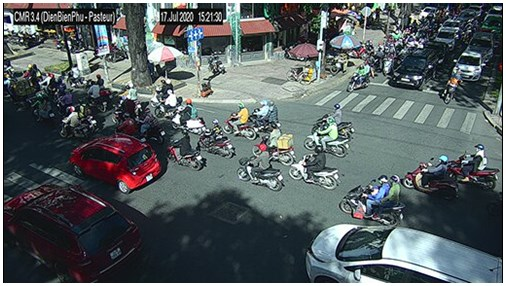xe_hoi: (4, 182, 143, 281), (304, 223, 501, 282), (69, 135, 162, 192), (391, 50, 438, 87), (452, 50, 484, 81), (467, 32, 494, 59), (425, 43, 450, 63), (433, 28, 457, 47), (481, 16, 503, 33), (440, 19, 466, 33)
xe_may: (340, 175, 406, 226), (447, 142, 500, 191), (403, 153, 459, 199), (288, 145, 339, 191), (237, 144, 286, 191), (304, 116, 347, 158), (252, 122, 295, 164), (166, 128, 204, 172), (195, 119, 234, 159), (313, 104, 353, 141), (223, 103, 258, 140), (170, 99, 206, 134), (58, 105, 87, 139), (248, 99, 279, 130), (140, 110, 166, 145), (30, 91, 55, 126), (348, 59, 371, 93), (155, 89, 180, 120), (82, 80, 107, 111), (152, 79, 174, 107), (443, 67, 459, 104), (118, 82, 141, 106), (115, 113, 136, 137), (383, 49, 394, 75)
